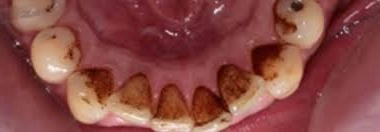Tooth Discoloration: (79, 8, 302, 127)
